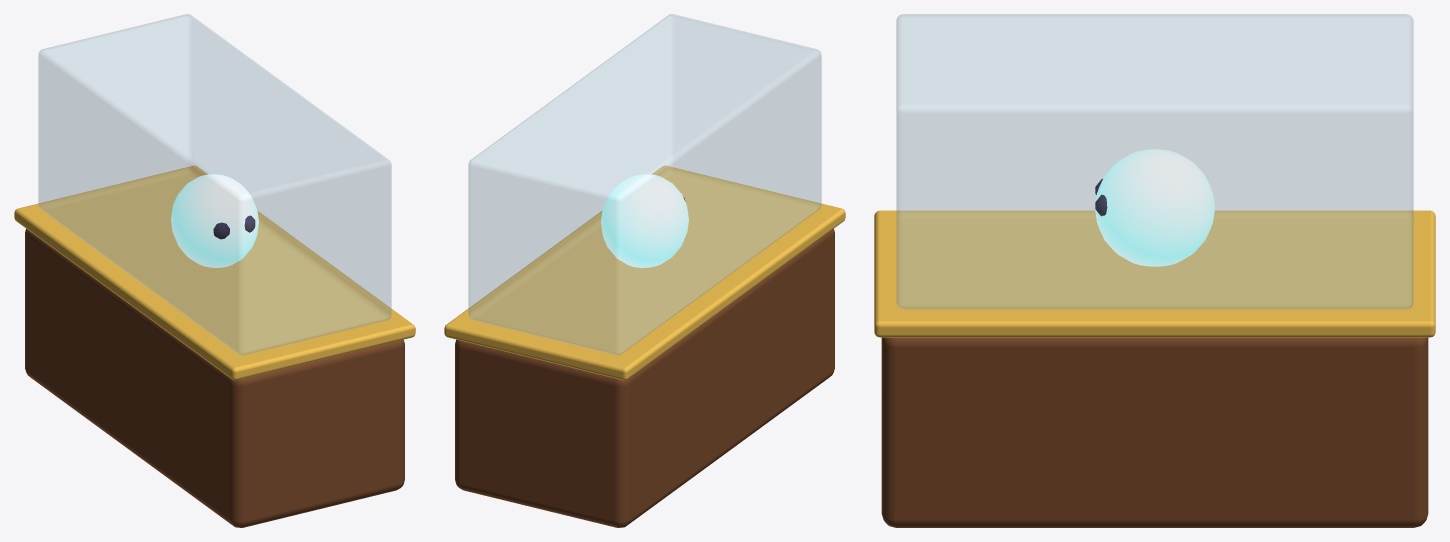
File: vitrine.glb
3 renders of one model, left to right at view 1: azimuth 30°, elevation 25°; view 2: azimuth 150°, elevation 25°; view 3: azimuth 270°, elevation 25°, orthographic. The views are drawn at different scales.
Visible parts, largest first — view 1: vitrine; view 2: vitrine; view 3: vitrine.
Boxes of the visible parts, x1,y1,x2,y2 form: vitrine: [14, 14, 415, 527]; vitrine: [444, 14, 845, 527]; vitrine: [874, 14, 1435, 527].
Bounding box in the file's own units: 0.74 × 1.27 × 1.54.
